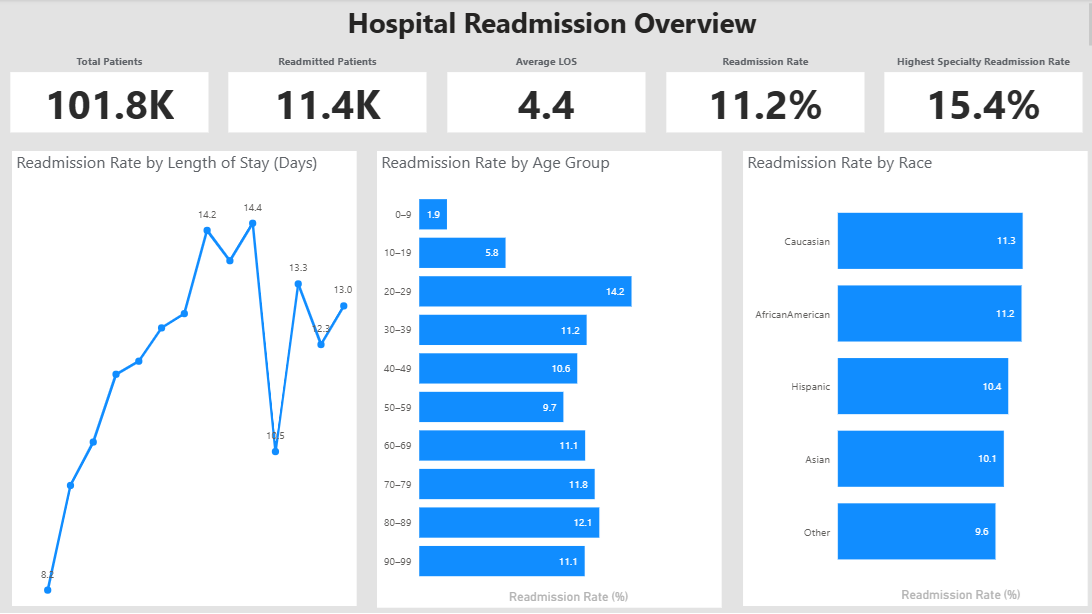

The dashboard page shown, as its layout file describes it:
{"tool":"powerbi","page":{"name":"Hospital Readmission Overview","canvas":[1280,720],"ordinal":0},"visuals":[{"type":"cardVisual","title":"Total Patients","fields":{"Data":["stg_readmissions.Total Patients"]},"box":[9,64.4,240,96],"z":0},{"type":"cardVisual","title":"Readmission Rate","fields":{"Data":["stg_readmissions.Readmission Rate"]},"box":[770.3,64,240,96],"z":1000},{"type":"cardVisual","title":"Readmitted Patients","fields":{"Data":["stg_readmissions.Readmitted Patients"]},"box":[262.8,64.4,240,96],"z":2000},{"type":"cardVisual","title":"Average LOS","fields":{"Data":["stg_readmissions.Avg LOS"]},"box":[516.5,64.4,240,96],"z":3000},{"type":"lineChart","title":"Readmission Rate by Length of Stay (Days)","fields":{"Category":["vw_readmission_by_los.time_in_hospital"],"Y":["Avg(vw_readmission_by_los.readmission_rate_pct)"]},"box":[16,176,400,528],"z":4000},{"type":"clusteredBarChart","title":"Readmission Rate by Age Group","fields":{"Category":["vw_readmission_by_age.age_group"],"Y":["Avg(vw_readmission_by_age.readmission_rate_pct)"]},"box":[440,176,400,530],"z":5000},{"type":"clusteredBarChart","title":"Readmission Rate by Race","fields":{"Category":["vw_readmission_by_race.race"],"Y":["measures_folder.Race Readmission Rate"]},"box":[864,176,400,528],"z":6000},{"type":"textbox","box":[15.6,0,1264.2,63.8],"z":7000},{"type":"cardVisual","title":"Highest Specialty Readmission Rate","fields":{"Data":["measures_folder.Highest Specialty Rate"]},"box":[1024,64,240,96],"z":8000}]}

Visuals, with their boxes in screenshot pixels (x1, y1, x2, y2), scaled from the page's 1280x720 canvas onto the 1092x614 screenshot:
"Total Patients" cardVisual: 8:55:212:137
"Readmission Rate" cardVisual: 657:55:862:136
"Readmitted Patients" cardVisual: 224:55:429:137
"Average LOS" cardVisual: 441:55:645:137
"Readmission Rate by Length of Stay (Days)" lineChart: 14:150:355:600
"Readmission Rate by Age Group" clusteredBarChart: 375:150:717:602
"Readmission Rate by Race" clusteredBarChart: 737:150:1078:600
textbox: 13:0:1091:54
"Highest Specialty Readmission Rate" cardVisual: 874:55:1078:136
